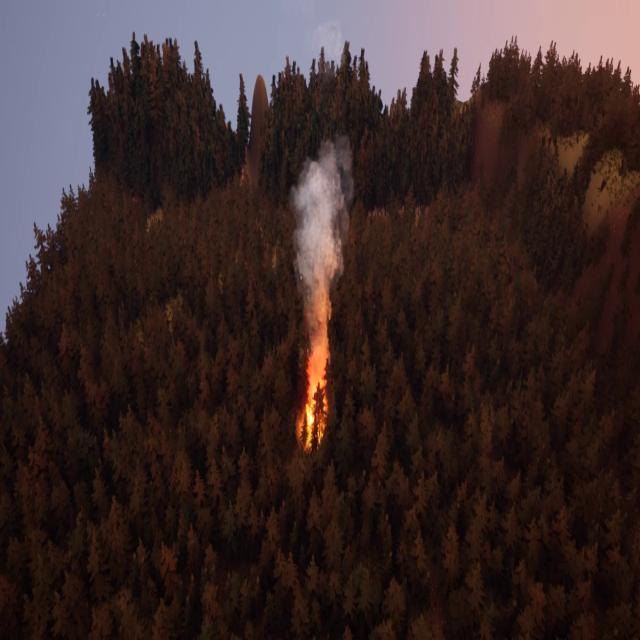fire: (300, 346, 330, 440)
smoke: (292, 136, 356, 342)
